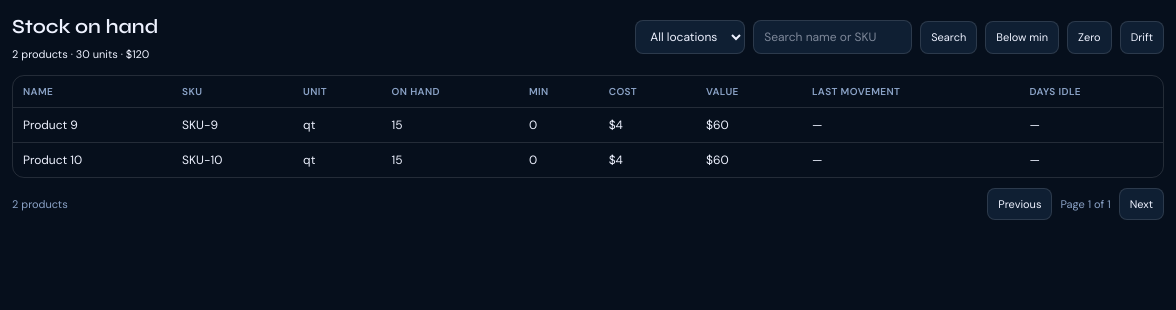
StockOnHand lots › by-location rows show lots as a sub-line when present
What coordinates should you click on to do the following:
click the row "Product 9 SKU-9 qt 15 0 $4 $60 — —"
I would click on:
 (588, 124)
Its box is left=13, top=107, right=1163, bottom=142.
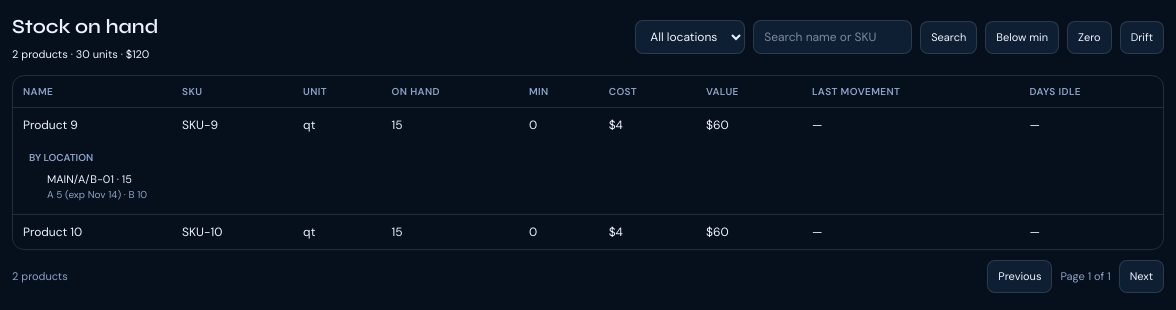
Expected: the text with test id "by-location-lots-9-5" reads "A 5 (exp Nov 14) · B 10", left=47, top=188, right=147, bottom=201
What coordinates should you click on to do the following:
click the row "Product 10 SKU-10 qt 15 0 $4 $60 — —"
I would click on:
 (588, 232)
Its box is left=13, top=214, right=1163, bottom=249.
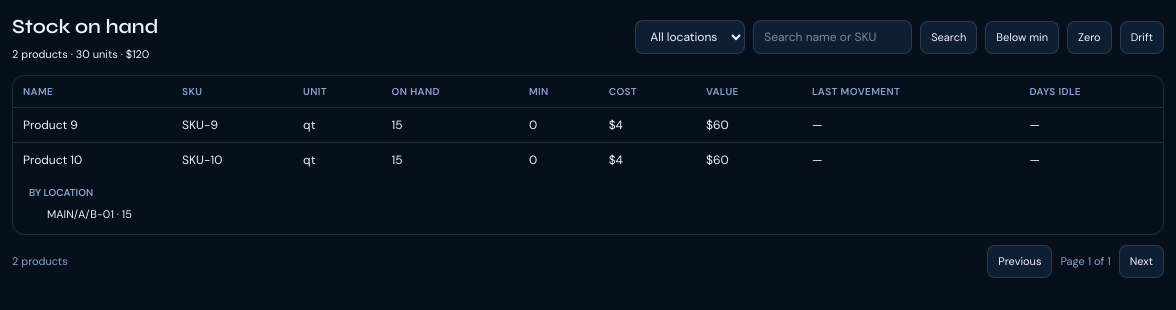
Expected: the list with test id "by-location-10" is shown, left=47, top=206, right=132, bottom=220
Expected: the list with test id "by-location-9" is gone
